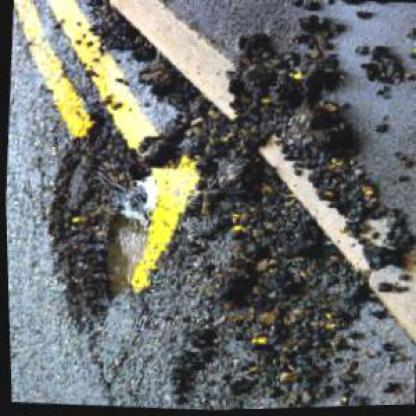pothole: (31, 102, 156, 340)
